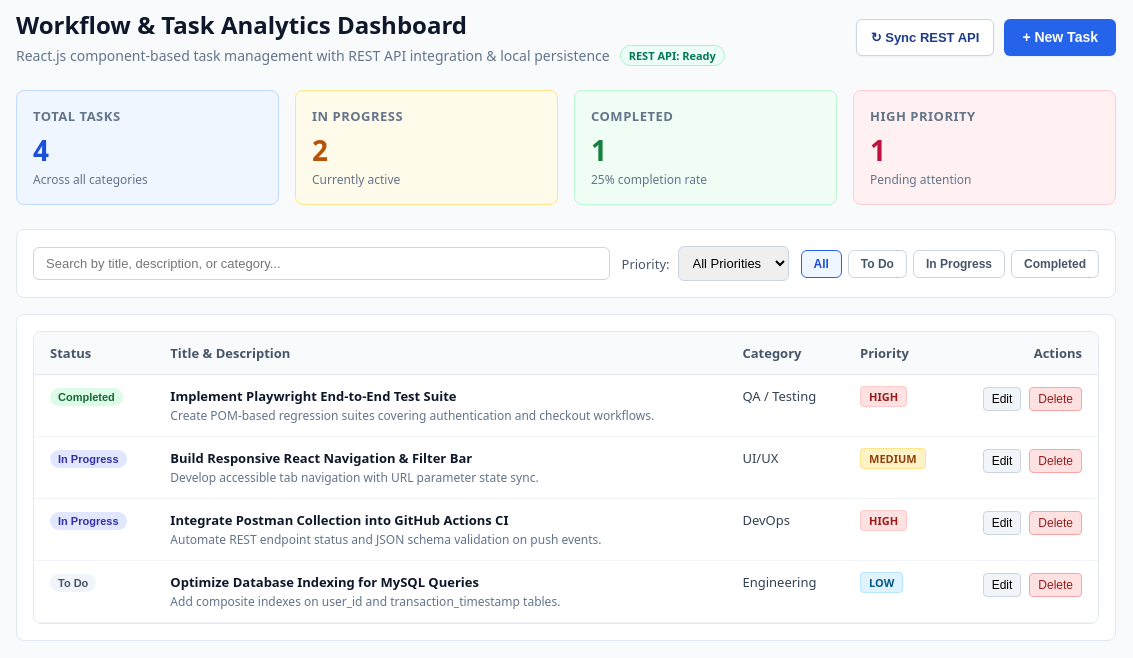
Test: App Dashboard Integration › filters tasks when clicking a status button
Click the button with test id "filter-btn-completed" at {"x": 1055, "y": 264}, box x1=1011 y1=250 x2=1099 y2=278
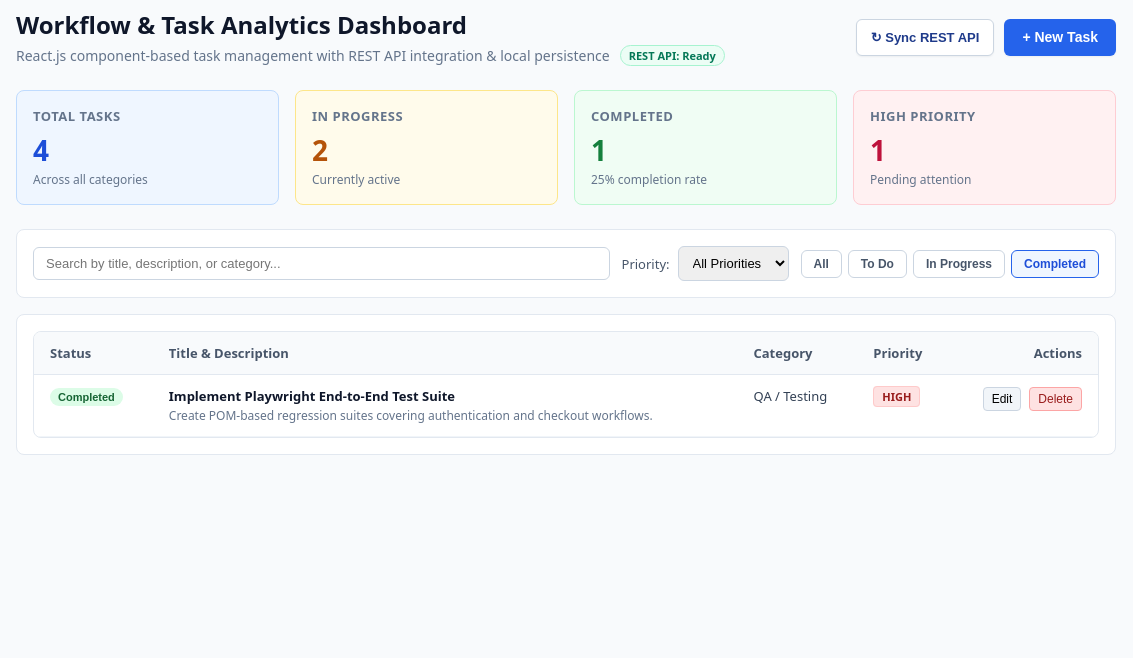
Check: the text "Implement Playwright End-to-End Test Suite" is shown, box x1=169 y1=387 x2=455 y2=405
Check: the text "Build Responsive React Navigation & Filter Bar" is gone
